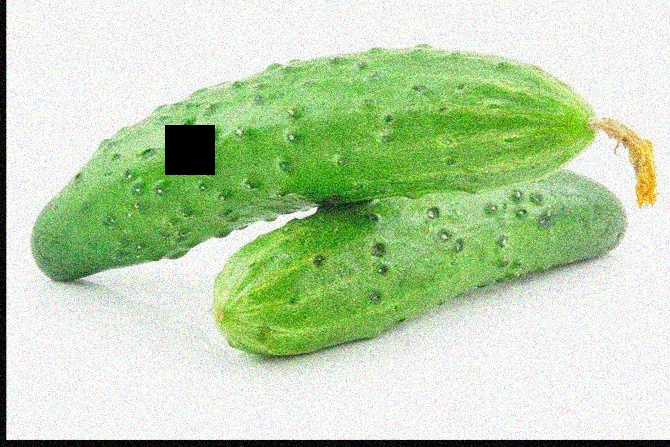cucumber: (40, 36, 599, 277), (229, 173, 622, 347)
